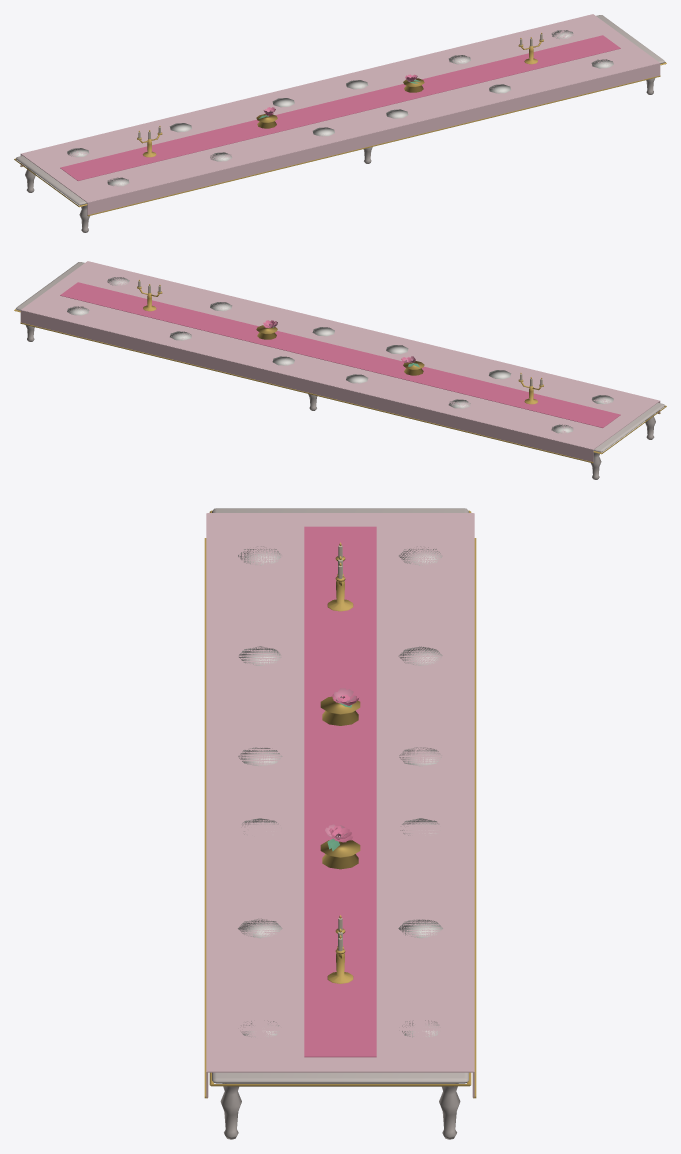
Rendered from table_dining_long.glb.
3 views of the same model, one above another, from view 1: azimuth 30°, elevation 25°; view 2: azimuth 150°, elevation 25°; view 3: azimuth 270°, elevation 25° (orthographic). The views are drawn at different scales.
Visible parts, largest first — view 1: table_dining_long; view 2: table_dining_long; view 3: table_dining_long.
Part boxes in pixels (box(x1,y1,x2,y2)): table_dining_long: box(14, 14, 666, 232); table_dining_long: box(14, 261, 666, 479); table_dining_long: box(204, 508, 476, 1139).
Size of what is drawn, in the model's own units: 8 by 0.8 by 1.6.
